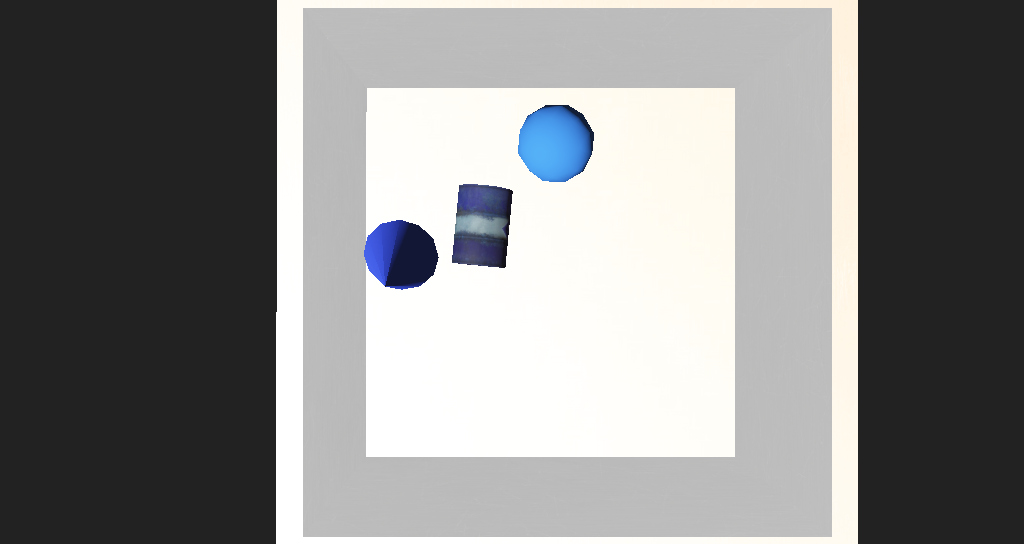cone: (418, 217, 472, 270)
cylinder: (330, 236, 411, 298)
sphere: (482, 174, 542, 217)
